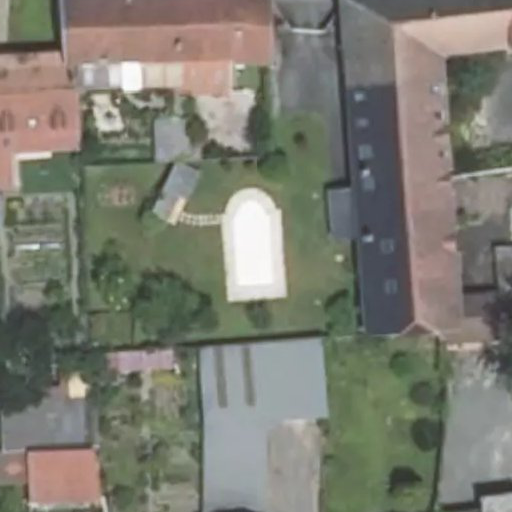pool: (234, 199, 276, 285)
